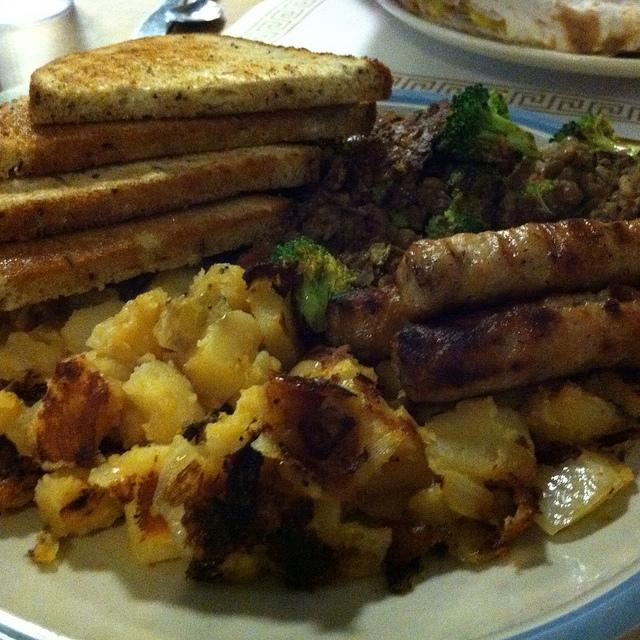broccoli: (430, 82, 544, 164), (269, 233, 361, 334), (548, 112, 615, 152), (444, 188, 482, 236), (515, 181, 557, 223), (388, 208, 412, 230)
onion: (414, 396, 537, 487), (517, 379, 640, 466), (150, 434, 225, 557), (526, 450, 634, 535), (442, 471, 495, 520), (365, 428, 407, 473), (288, 360, 326, 378)
potato: (266, 371, 443, 524), (27, 352, 132, 472), (416, 396, 540, 489), (176, 309, 282, 416), (527, 449, 635, 535), (150, 434, 225, 557), (520, 380, 640, 448), (123, 352, 207, 448), (86, 286, 170, 366), (34, 468, 125, 538), (248, 274, 306, 371), (205, 382, 271, 459), (0, 320, 68, 384), (60, 294, 126, 356), (88, 443, 151, 504), (188, 263, 255, 318), (152, 295, 209, 353), (222, 441, 264, 518), (13, 398, 42, 458)
